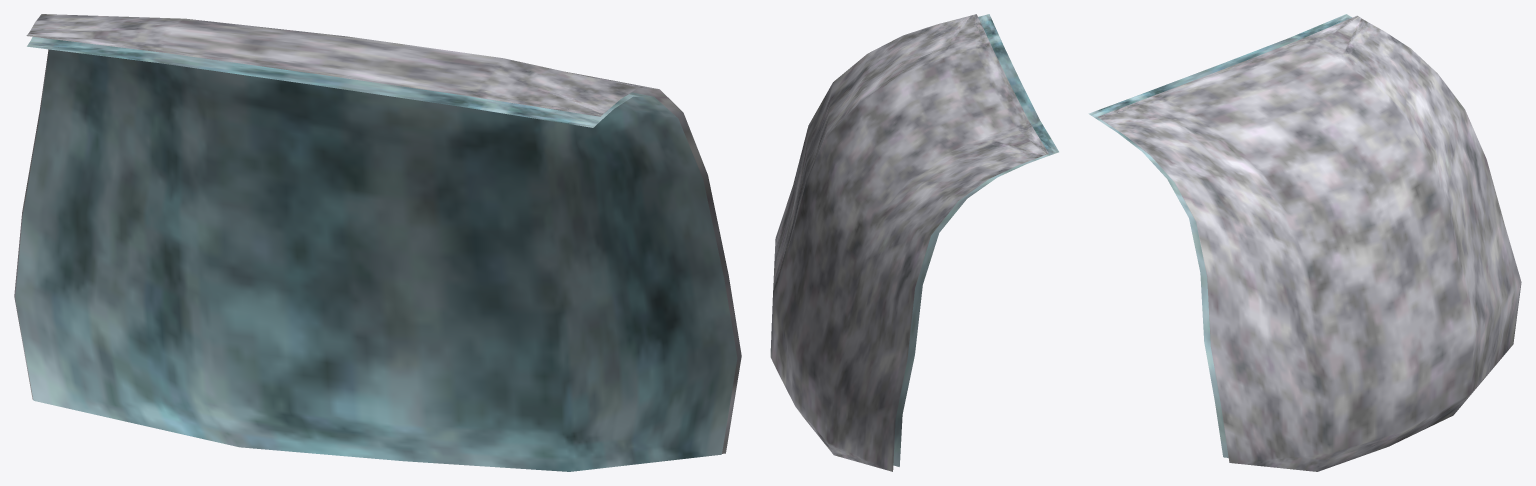
Rendered from CB_NEWPLAYSURFACE_CB_WATERFALLS13.fbx.
The picture shows the model from 3 angles, left to right: view 1: azimuth 30°, elevation 25°; view 2: azimuth 150°, elevation 25°; view 3: azimuth 270°, elevation 25°; orthographic projection. The views are drawn at different scales.
Visible parts, largest first — view 1: CB_NEWPLAYSURFACE_CB_WATERFALLS13; view 2: CB_NEWPLAYSURFACE_CB_WATERFALLS13; view 3: CB_NEWPLAYSURFACE_CB_WATERFALLS13.
Part boxes in pixels (left/top/right/bottom): CB_NEWPLAYSURFACE_CB_WATERFALLS13: left=14, top=14, right=741, bottom=471; CB_NEWPLAYSURFACE_CB_WATERFALLS13: left=770, top=14, right=1058, bottom=471; CB_NEWPLAYSURFACE_CB_WATERFALLS13: left=1088, top=14, right=1521, bottom=471.
Bounding box in the file's own units: 68944 × 58843 × 73140.
2 materials, 2 textured.
